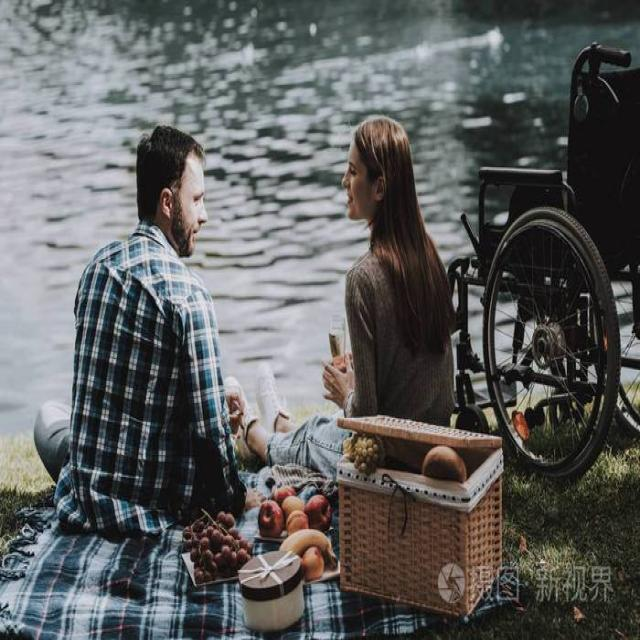wheelchairs: (436, 30, 640, 489)
